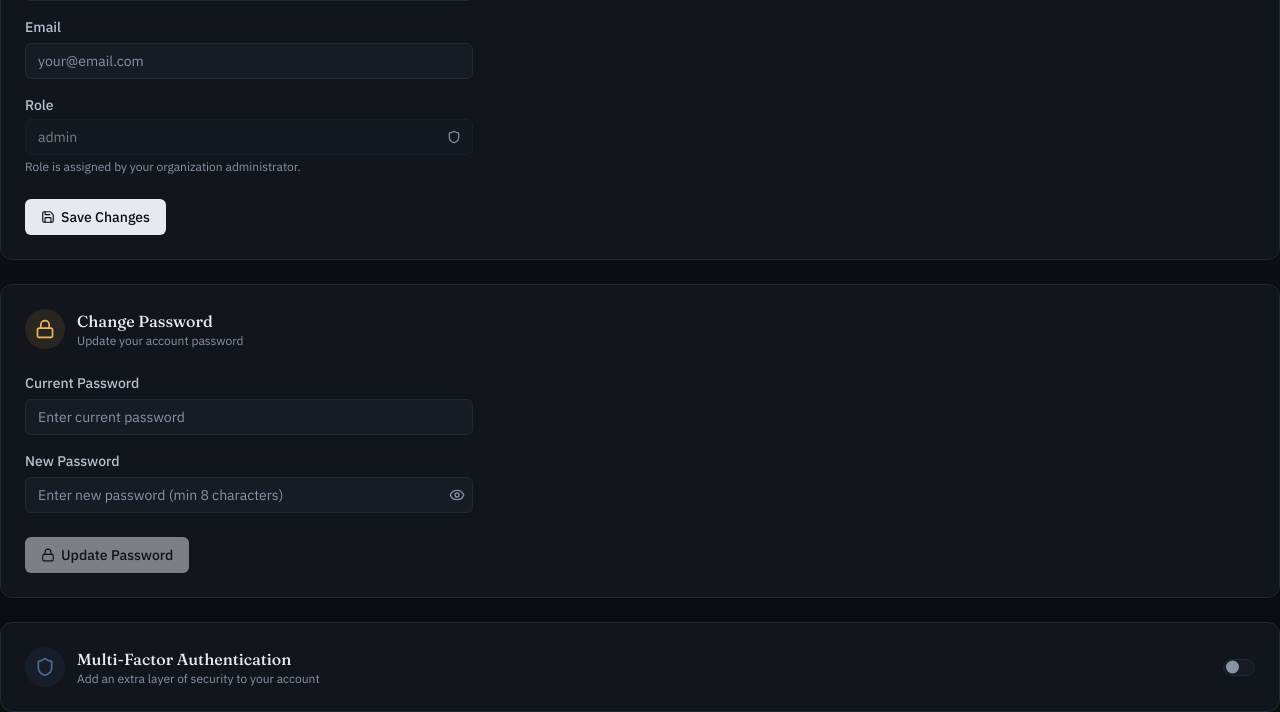
Test: AccountPage › shows password validation warning for short passwords
This screenshot has width=1280, height=712.
(page scrolled)
Note: The "New Password" field in the password section
Type "short" into the password field with placeholder "Enter new password (min 8 characters)".
click(249, 495); type("short")  # box [25, 477, 473, 513]
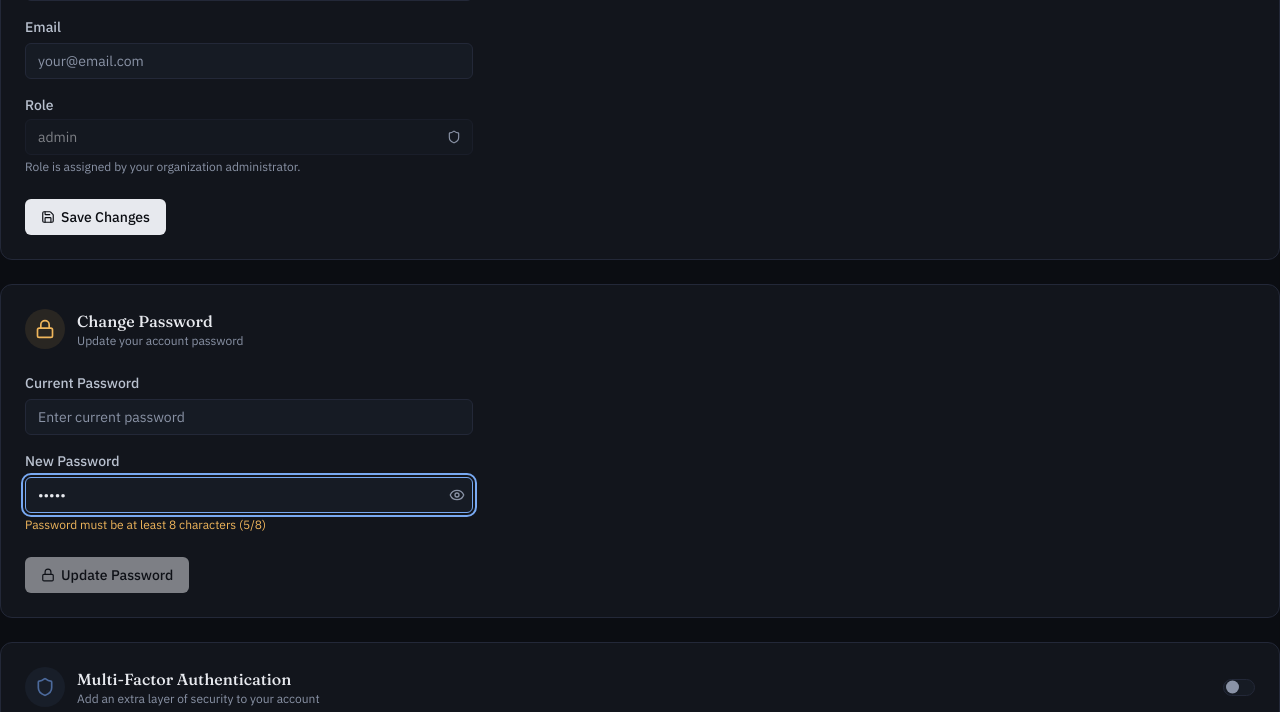
Result: the text "Password must be at least 8 characters (5/8)" is shown at [25, 517, 266, 532]
